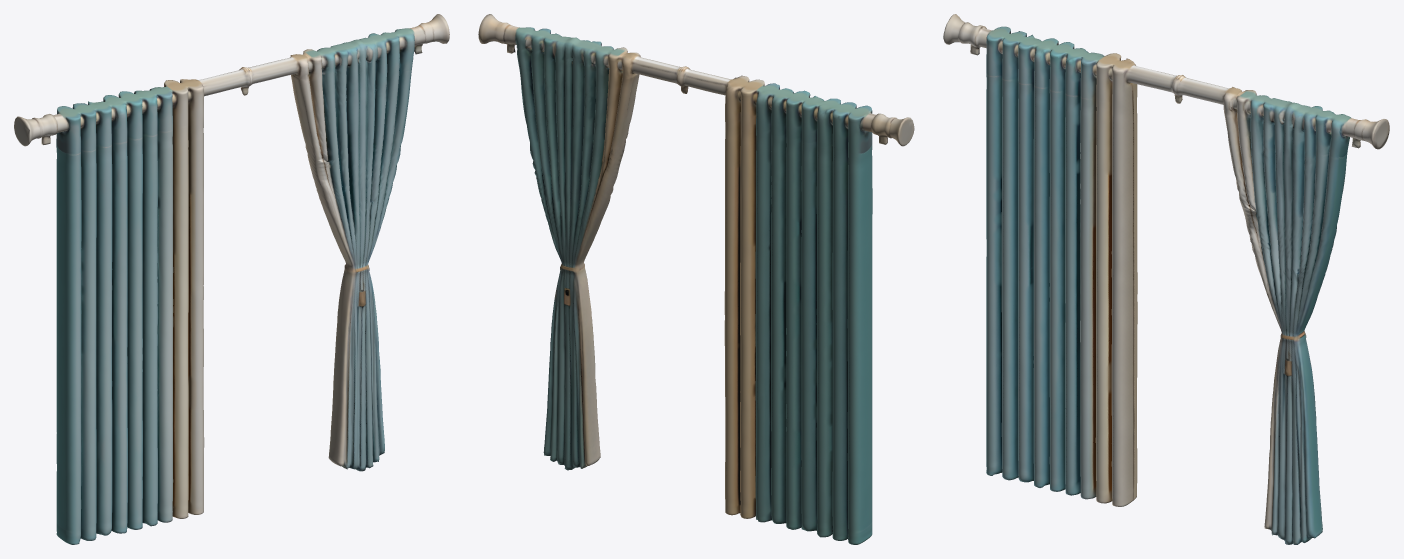
The model's file is 客厅窗帘 (2).fbx.
3 views of the same model, side by side, from view 1: azimuth 30°, elevation 25°; view 2: azimuth 150°, elevation 25°; view 3: azimuth 330°, elevation 25° (orthographic). The views are drawn at different scales.
Parts seen in each view (by area): view 1: model; view 2: model; view 3: model.
Part boxes in pixels (x1,y1,x2,y2): model: (14, 14, 449, 544); model: (478, 14, 914, 544); model: (943, 14, 1389, 544).
Bounding box in the file's own units: 174 × 171 × 12.83.
1 material, 1 textured.
